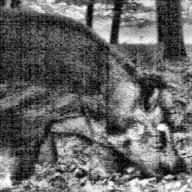boar: (0, 11, 192, 176)
